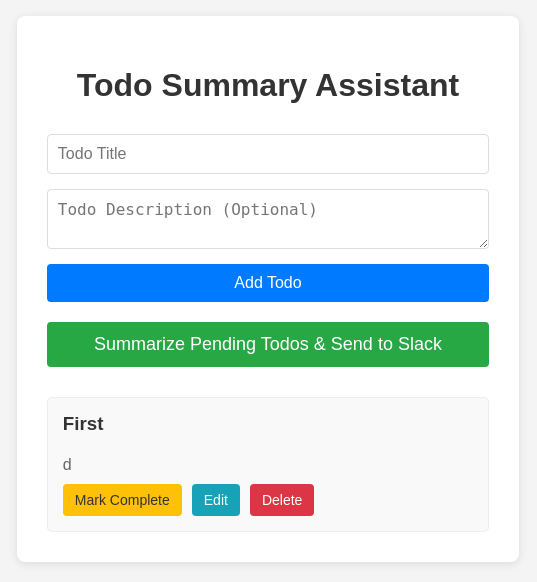
Test: App › deletes a todo
Expected: the heading "First" is shown, [63,413,103,434]
What coordinates should you click on to do the following:
click the button "Delete"
I would click on:
 (282, 500)
Its box is [250,484,314,516].
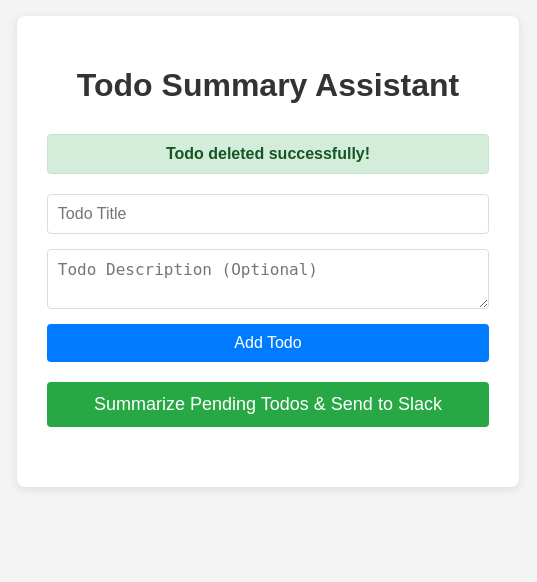
Now the heading "First" is gone
Now the text "Todo deleted successfully!" is shown, box [47,134,489,174]
